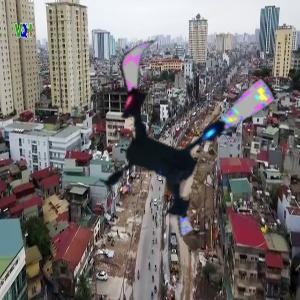drone: (73, 27, 281, 235)
